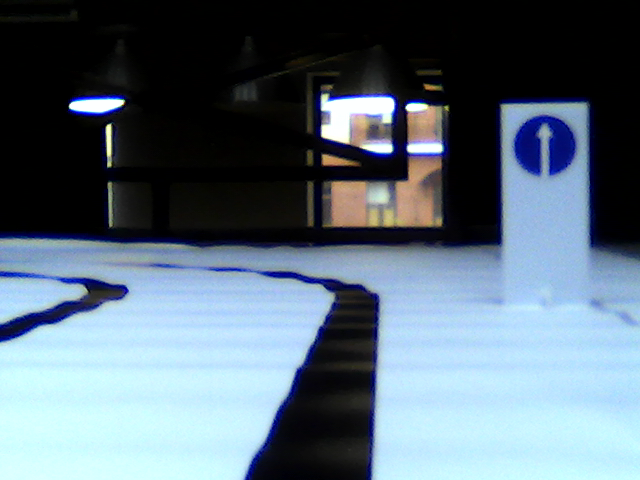forw: (510, 112, 577, 177)
